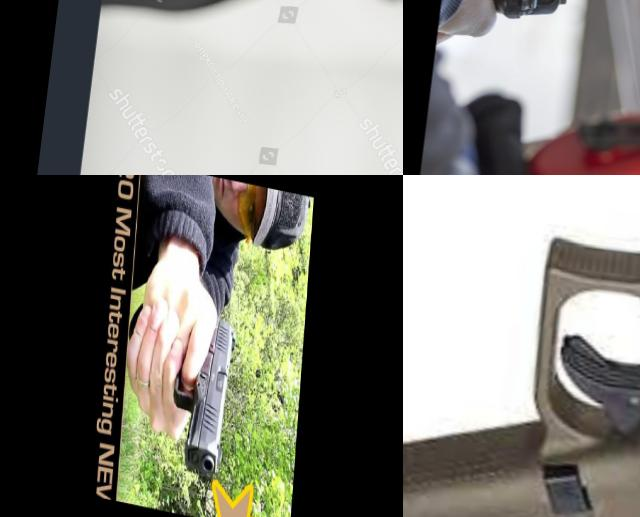handgun: (403, 175, 640, 517), (118, 294, 238, 482), (244, 0, 403, 43), (467, 0, 577, 49)
